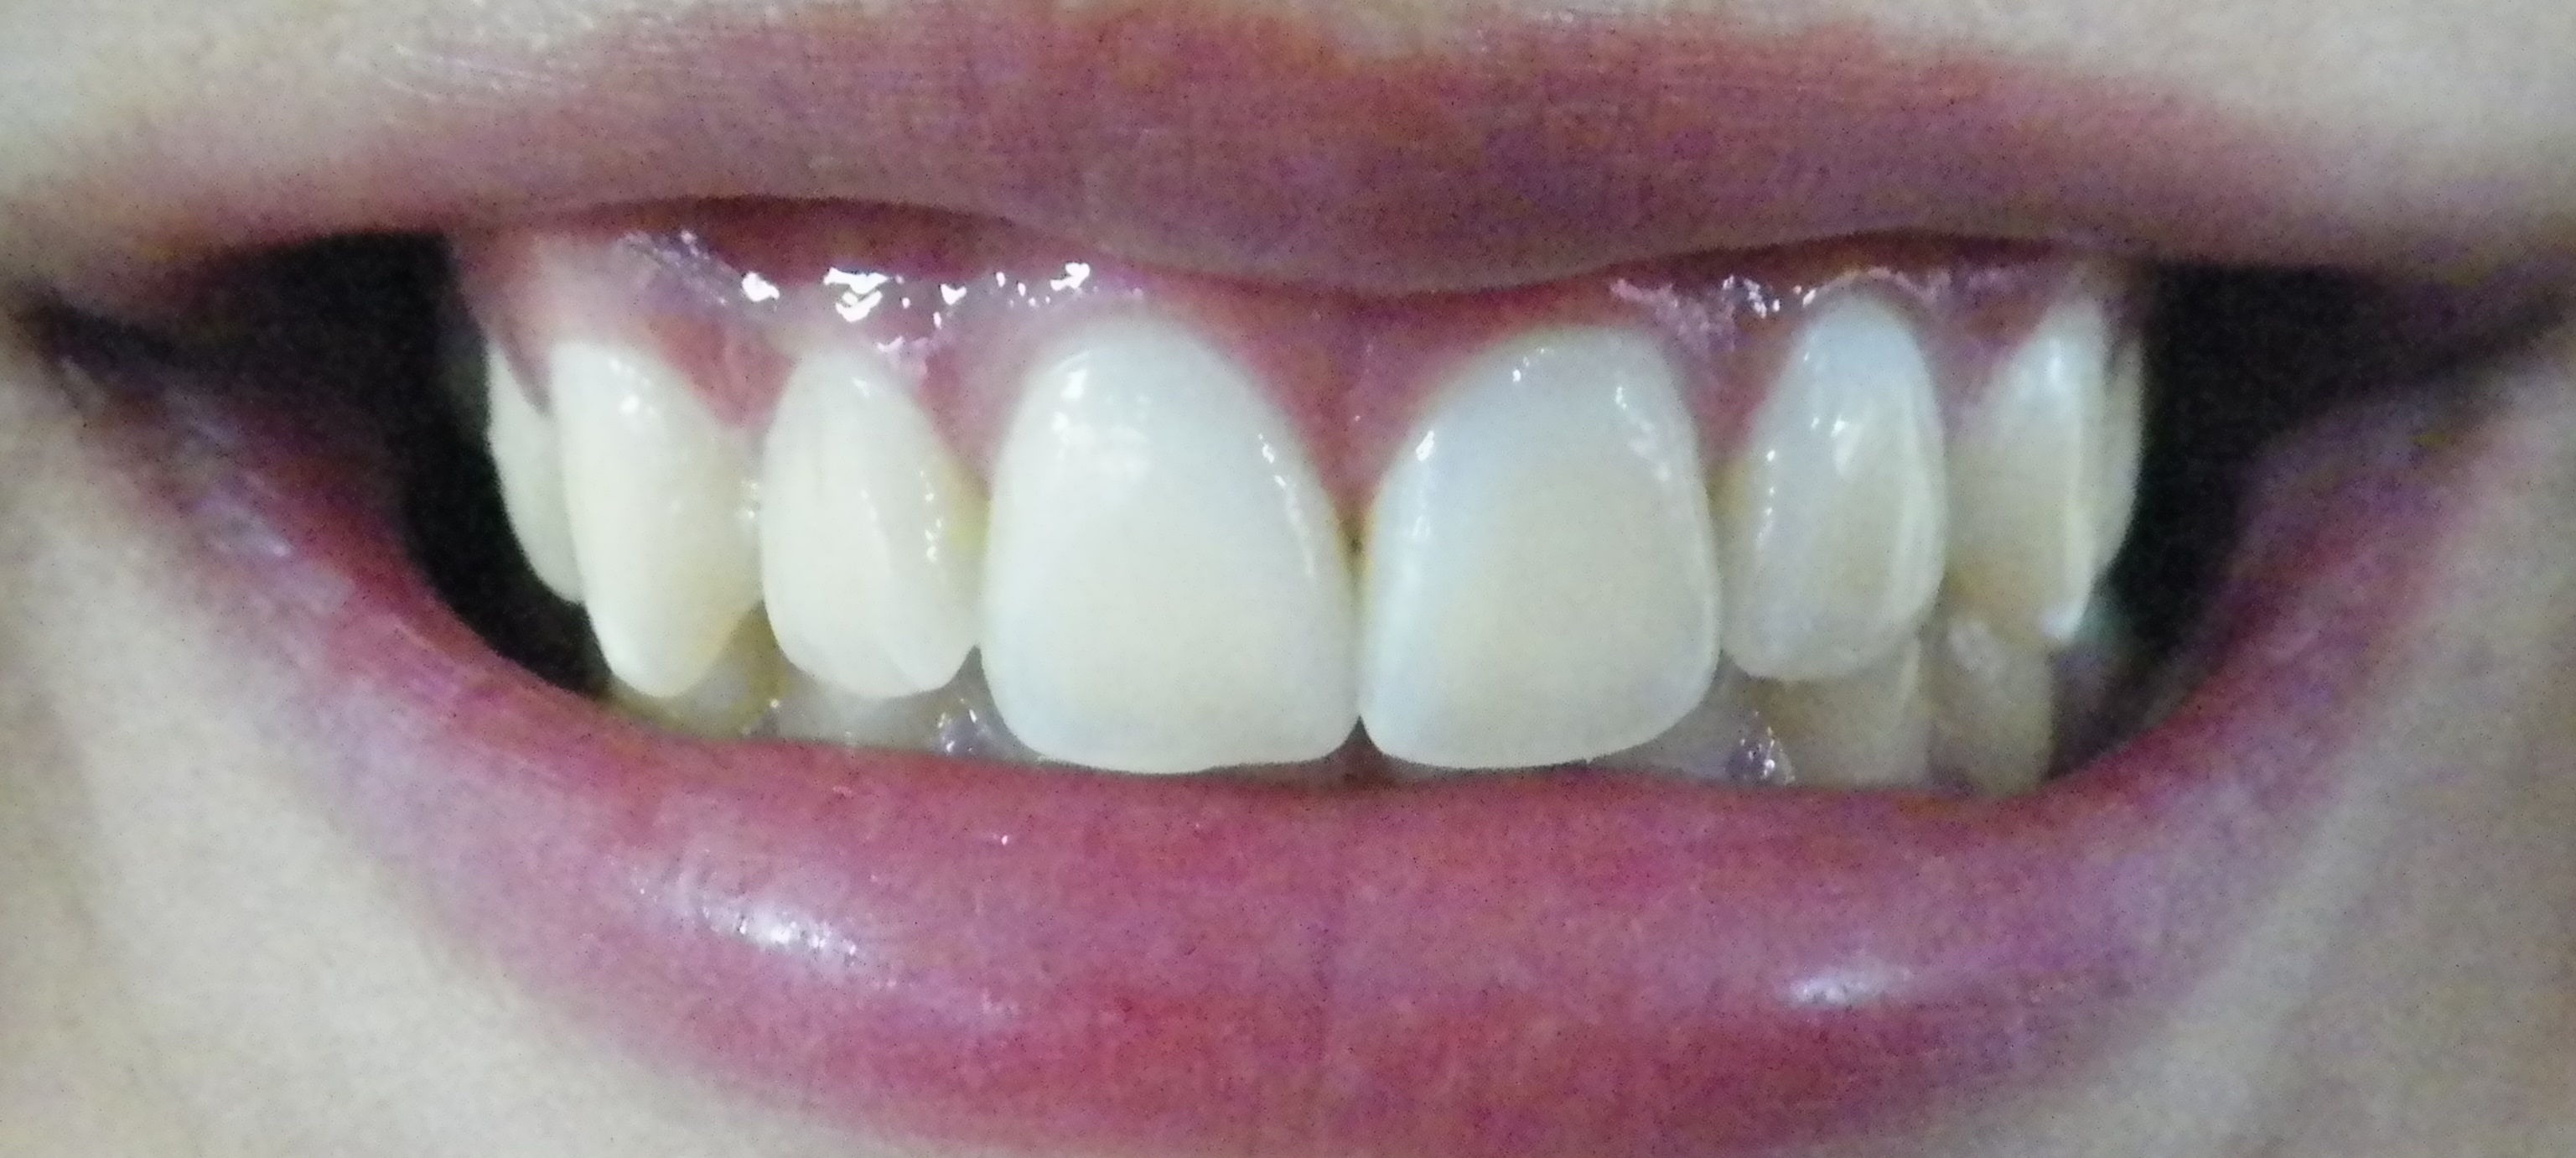boca: (463, 276, 2170, 787)
